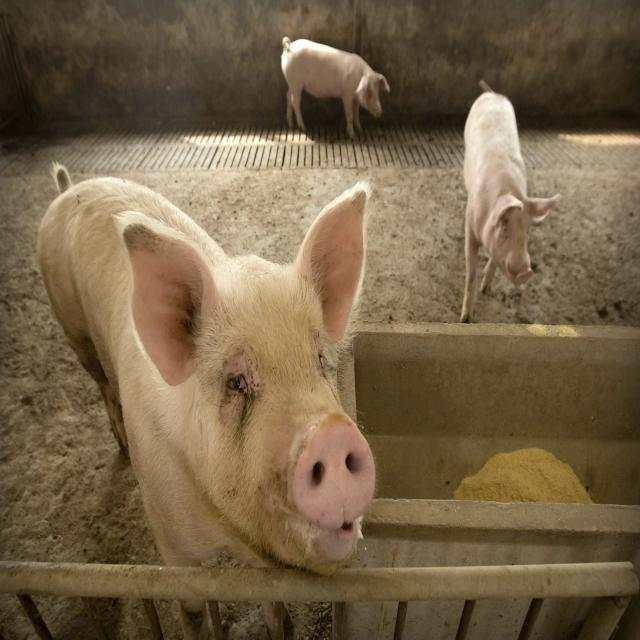pig: (37, 164, 376, 574), (460, 81, 562, 323), (281, 37, 390, 138)
